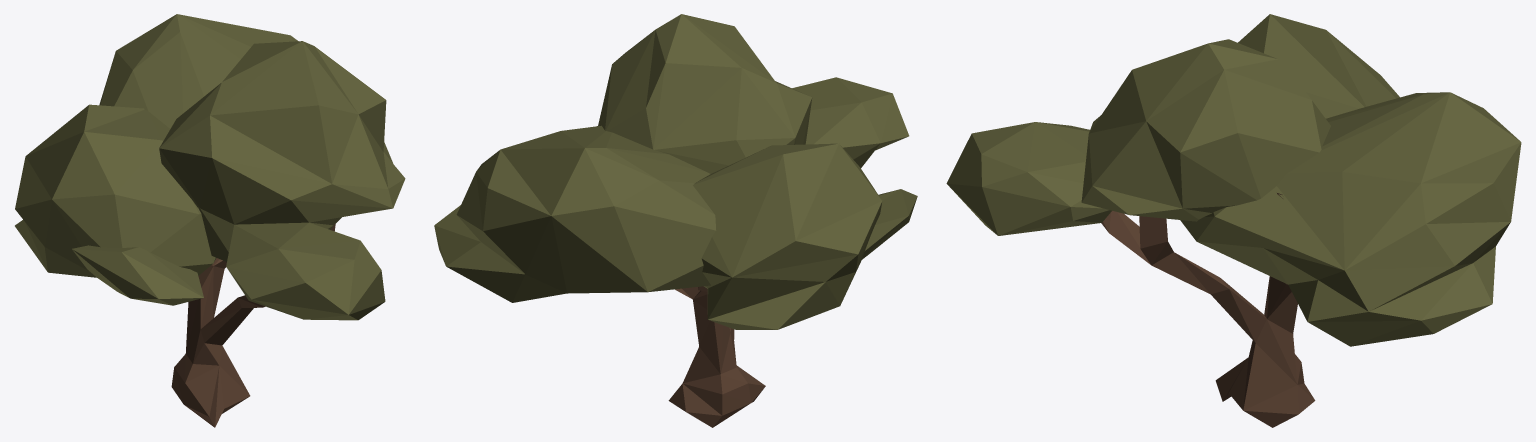
File: bg-tree-lod1.glb
The picture shows the model from 3 angles, left to right: view 1: azimuth 30°, elevation 25°; view 2: azimuth 150°, elevation 25°; view 3: azimuth 270°, elevation 25°; orthographic projection. The views are drawn at different scales.
Visible parts, largest first — view 1: SM_Env_Tree_03; view 2: SM_Env_Tree_03; view 3: SM_Env_Tree_03.
Part boxes in pixels (box(x1,y1,x2,y2)): SM_Env_Tree_03: box(15, 14, 405, 427); SM_Env_Tree_03: box(434, 14, 917, 427); SM_Env_Tree_03: box(946, 14, 1521, 427).
Size of the model in its own units: 13.67 by 13 by 16.24.
Materials: 1 (1 with a texture image).
